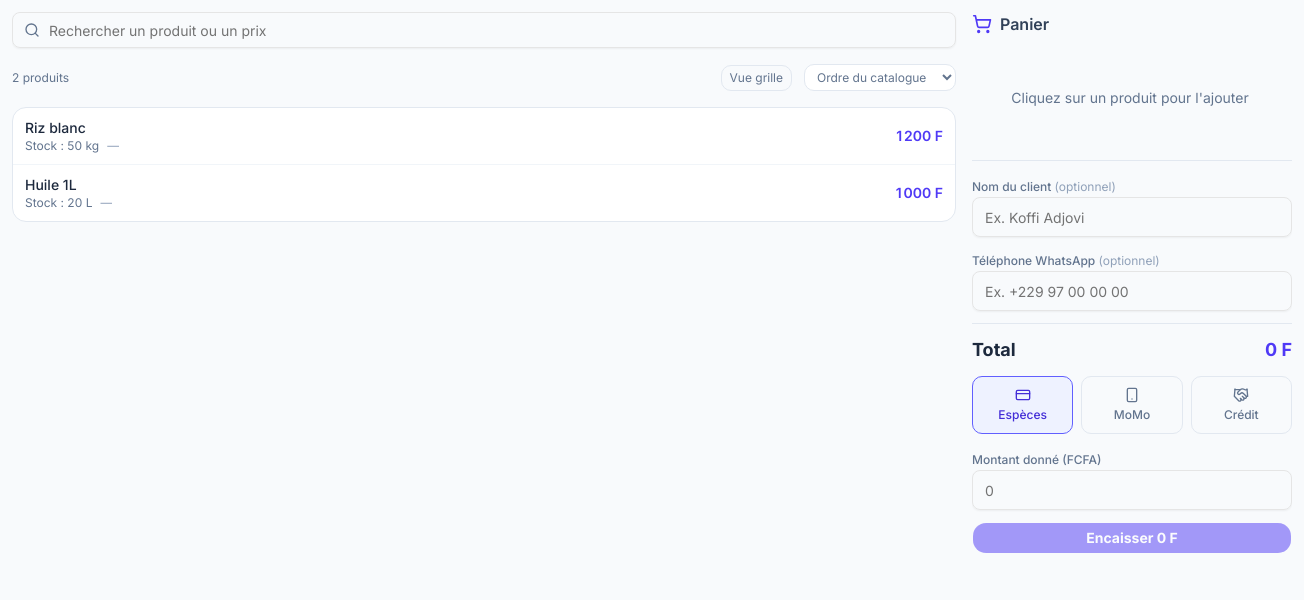
it: POS — la quantité se saisit avec une virgule › la pastille du catalogue écrit la quantité à la française
The width and height of the screenshot is (1304, 600).
Step 1. Click the text "Riz blanc" → (55, 128), box [25,119,86,136]
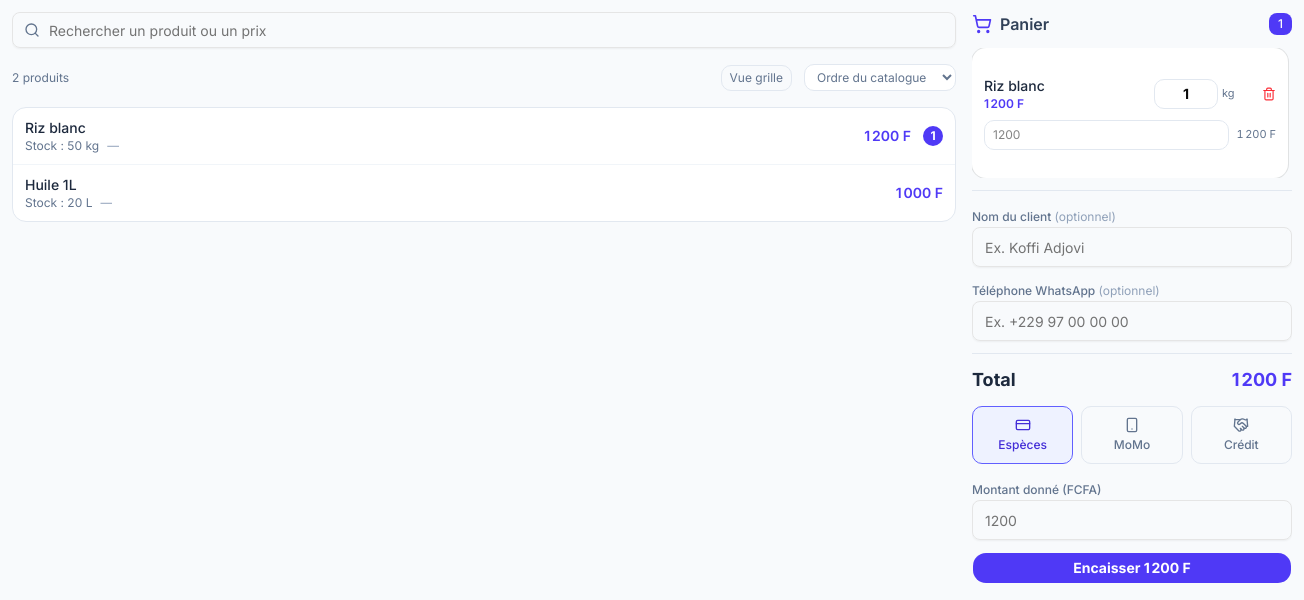
Step 2. Replace the text in the field named "Quantité pour Riz blanc" with "2,5" → (1186, 94), box [1154,79,1218,109]
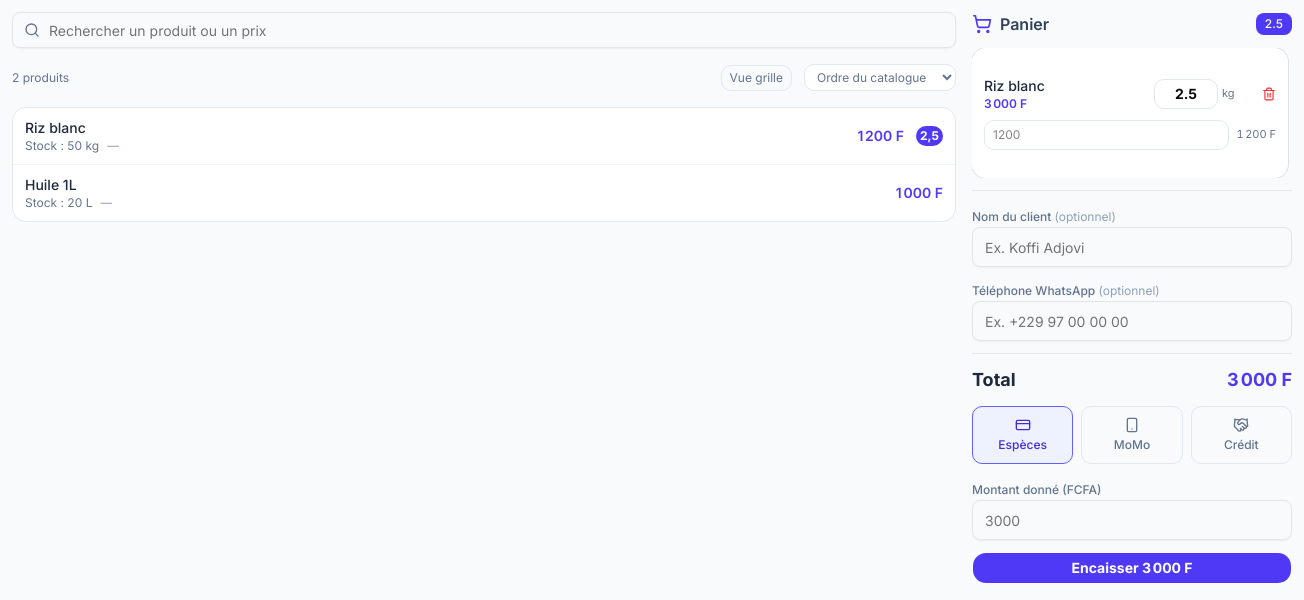
Result: the text "2,5" is shown at [916,126,943,146]
